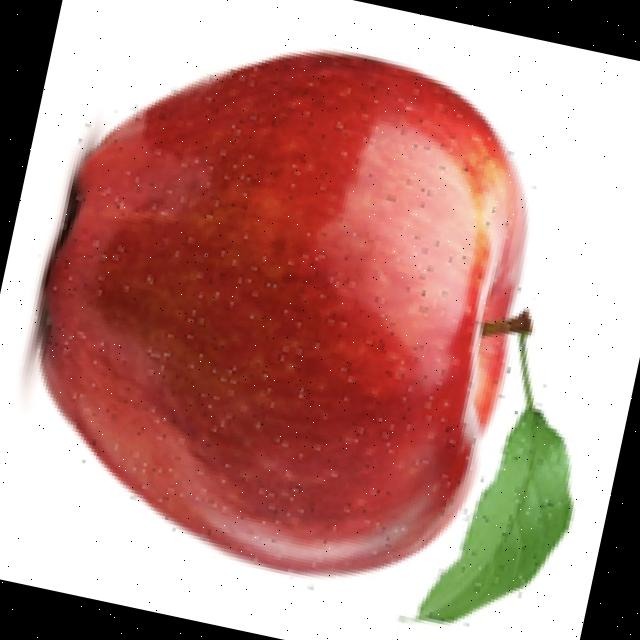apple: (15, 44, 579, 627)
